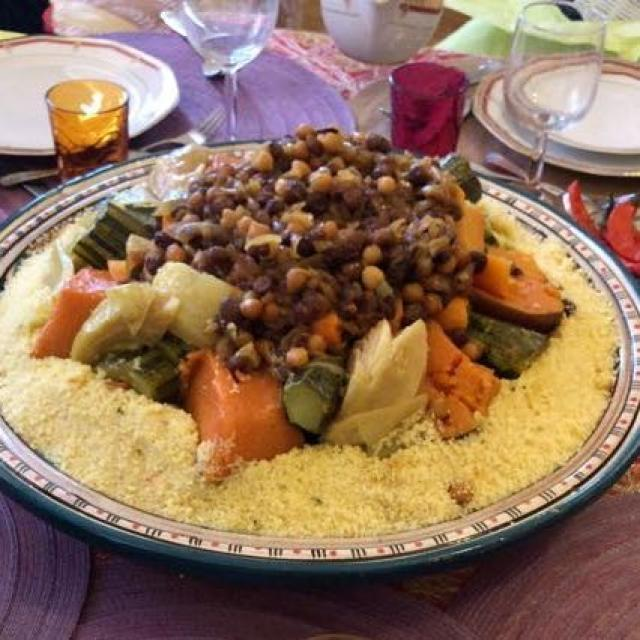couscous: (18, 184, 595, 558)
lentils: (157, 129, 450, 358)
mixed-vegetables: (53, 166, 579, 462)
